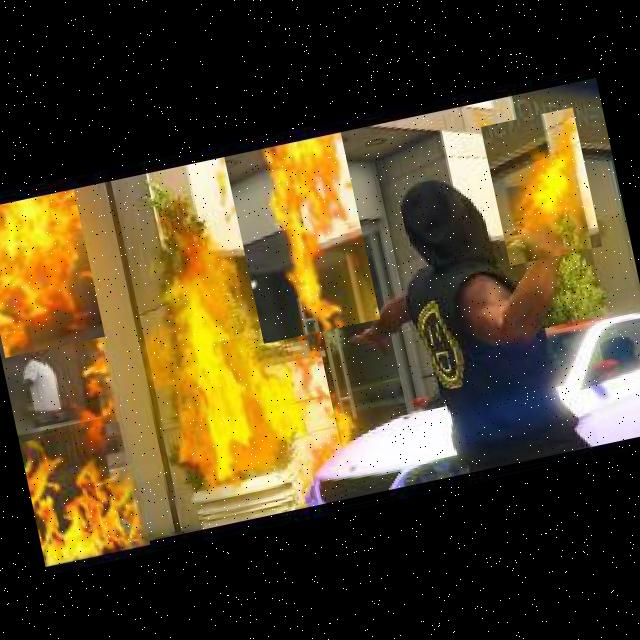fire: (142, 217, 308, 492), (223, 128, 380, 343), (18, 420, 150, 569), (481, 107, 602, 265), (0, 189, 104, 357)
